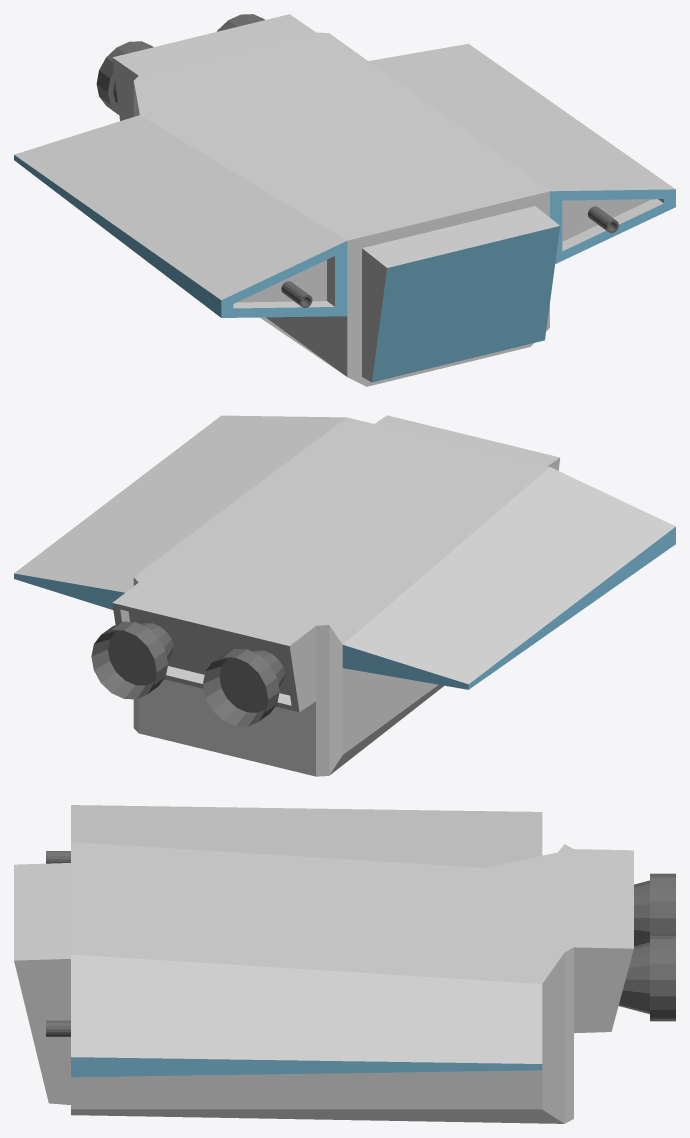
File: heavy_ship_white.glb
3 renders of one model, top to bottom at view 1: azimuth 30°, elevation 25°; view 2: azimuth 150°, elevation 25°; view 3: azimuth 270°, elevation 25°, orthographic. The views are drawn at different scales.
Visible parts, largest first — view 1: troop carrier ship; view 2: troop carrier ship; view 3: troop carrier ship.
Part boxes in pixels (x1,y1,x2,y2): troop carrier ship: (14, 14, 675, 386); troop carrier ship: (14, 415, 675, 776); troop carrier ship: (14, 805, 675, 1123).
Size of the model in its own units: 9.46 by 3 by 10.5.
